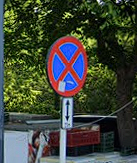oprirea_interzisa: (45, 34, 89, 98)
